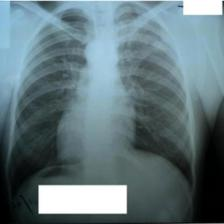tuberculosis: (4, 1, 194, 224)
